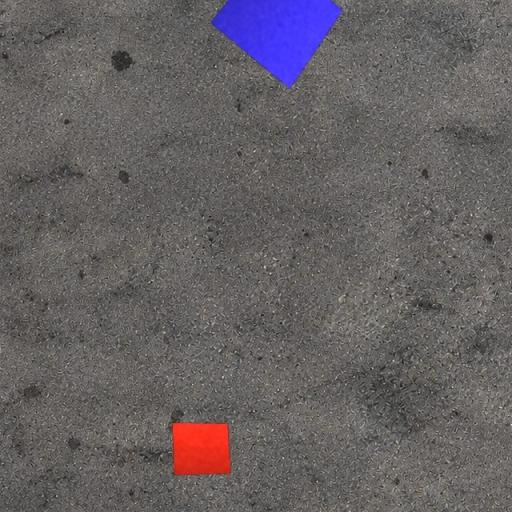BLUE_SQUARE: (209, 0, 343, 90)
RED_SQUARE: (171, 422, 231, 476)
